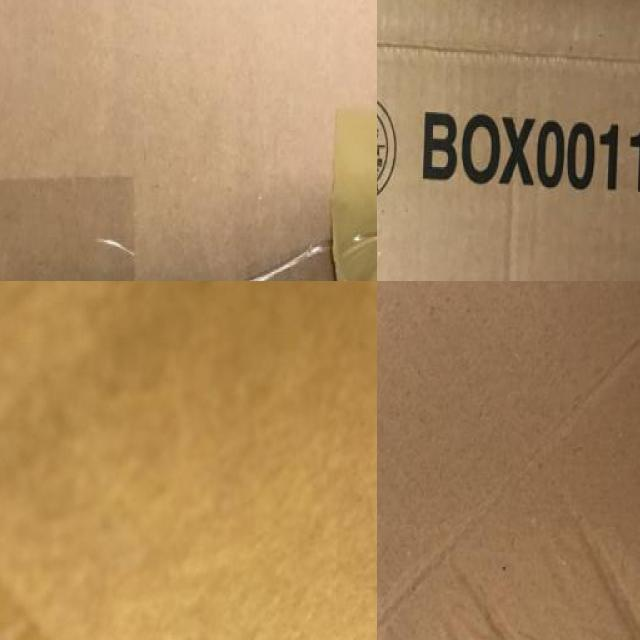class_name: (0, 281, 377, 640), (0, 0, 377, 281), (377, 281, 640, 640), (377, 0, 640, 281)
